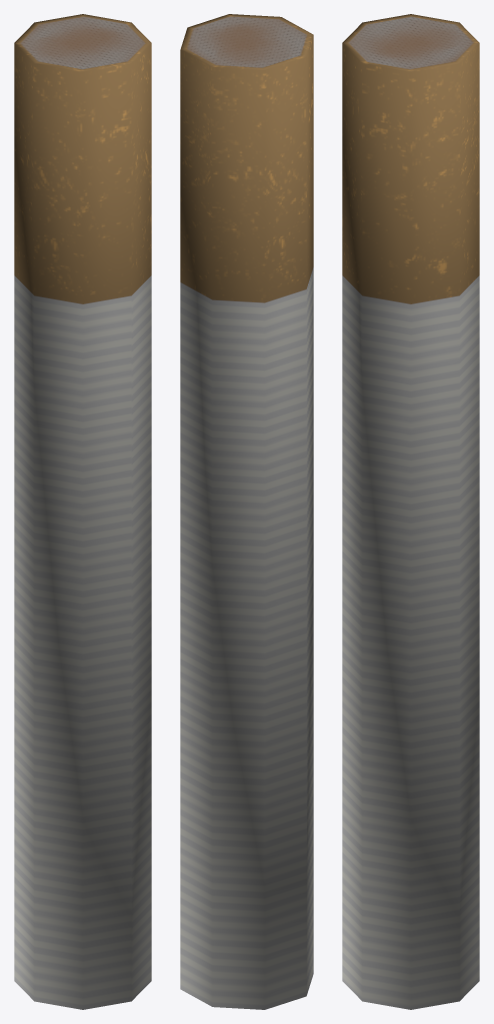
Rendered from solo_clope_final.fbx.
The picture shows the model from 3 angles, left to right: view 1: azimuth 90°, elevation 25°; view 2: azimuth 150°, elevation 25°; view 3: azimuth 270°, elevation 25°; orthographic projection.
Visible parts, largest first — view 1: solo_cigarette_eclate.001; view 2: solo_cigarette_eclate.001; view 3: solo_cigarette_eclate.001.
Part boxes in pixels (box(x1,y1,x2,y2)): solo_cigarette_eclate.001: box(14, 14, 151, 1009); solo_cigarette_eclate.001: box(180, 14, 313, 1009); solo_cigarette_eclate.001: box(342, 14, 479, 1009).
Bounding box in the file's own units: 30.22 × 228 × 30.22.
